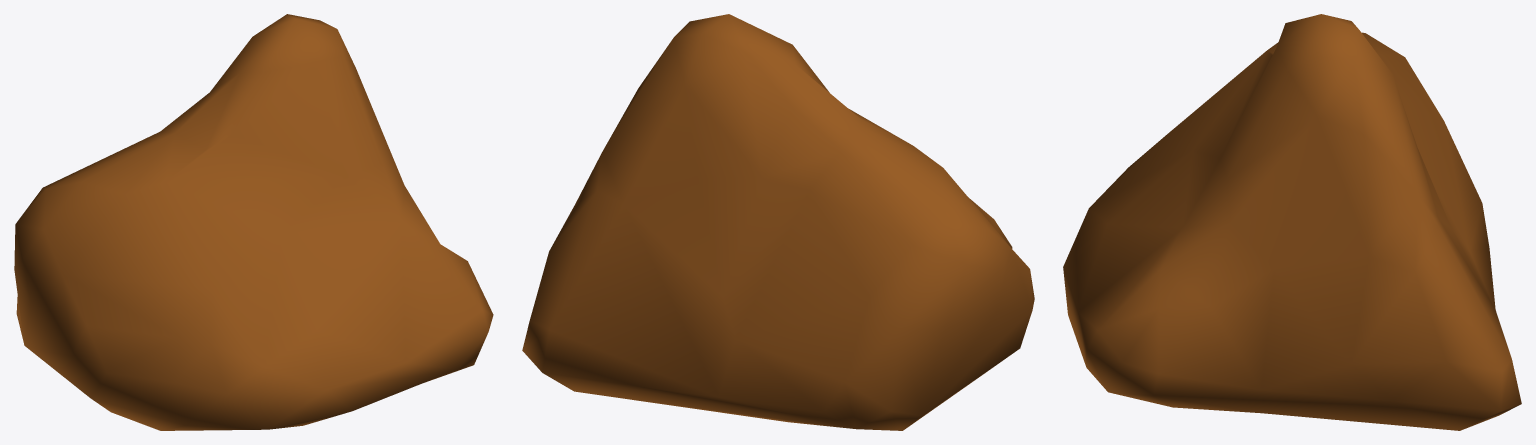
Rendered from SoftRock_30.fbx.
3 views of the same model, side by side, from view 1: azimuth 30°, elevation 25°; view 2: azimuth 150°, elevation 25°; view 3: azimuth 270°, elevation 25° (orthographic). The views are drawn at different scales.
Visible parts, largest first — view 1: SoftRock_30; view 2: SoftRock_30; view 3: SoftRock_30.
Boxes of the visible parts, x1,y1,x2,y2 form: SoftRock_30: [14, 14, 493, 430]; SoftRock_30: [522, 14, 1034, 430]; SoftRock_30: [1063, 14, 1521, 430].
Size of the model in its own units: 94.44 by 76.13 by 85.84.
